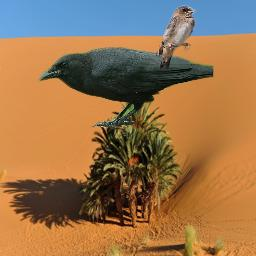Crow: (38, 47, 214, 129)
Swallow: (155, 5, 196, 69)
